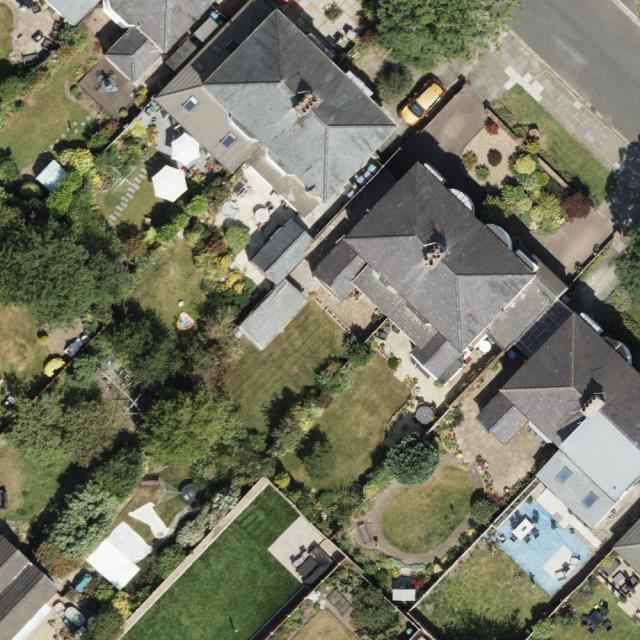roof: (313, 163, 567, 380), (152, 0, 397, 217), (474, 312, 640, 529), (238, 217, 318, 350), (103, 0, 216, 82), (46, 0, 100, 26)
skylight: (581, 491, 600, 510), (220, 130, 238, 150), (182, 95, 200, 113), (555, 467, 573, 485)
